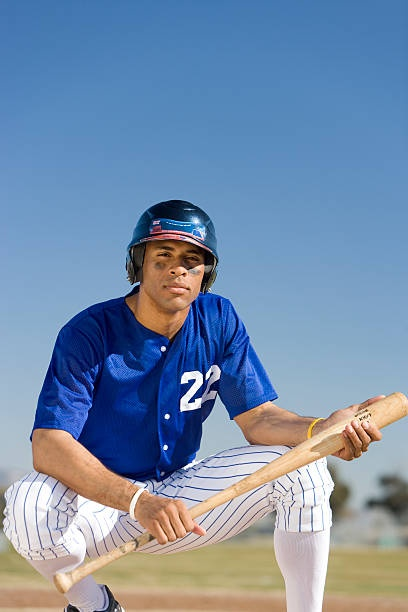bita: (50, 402, 395, 587)
